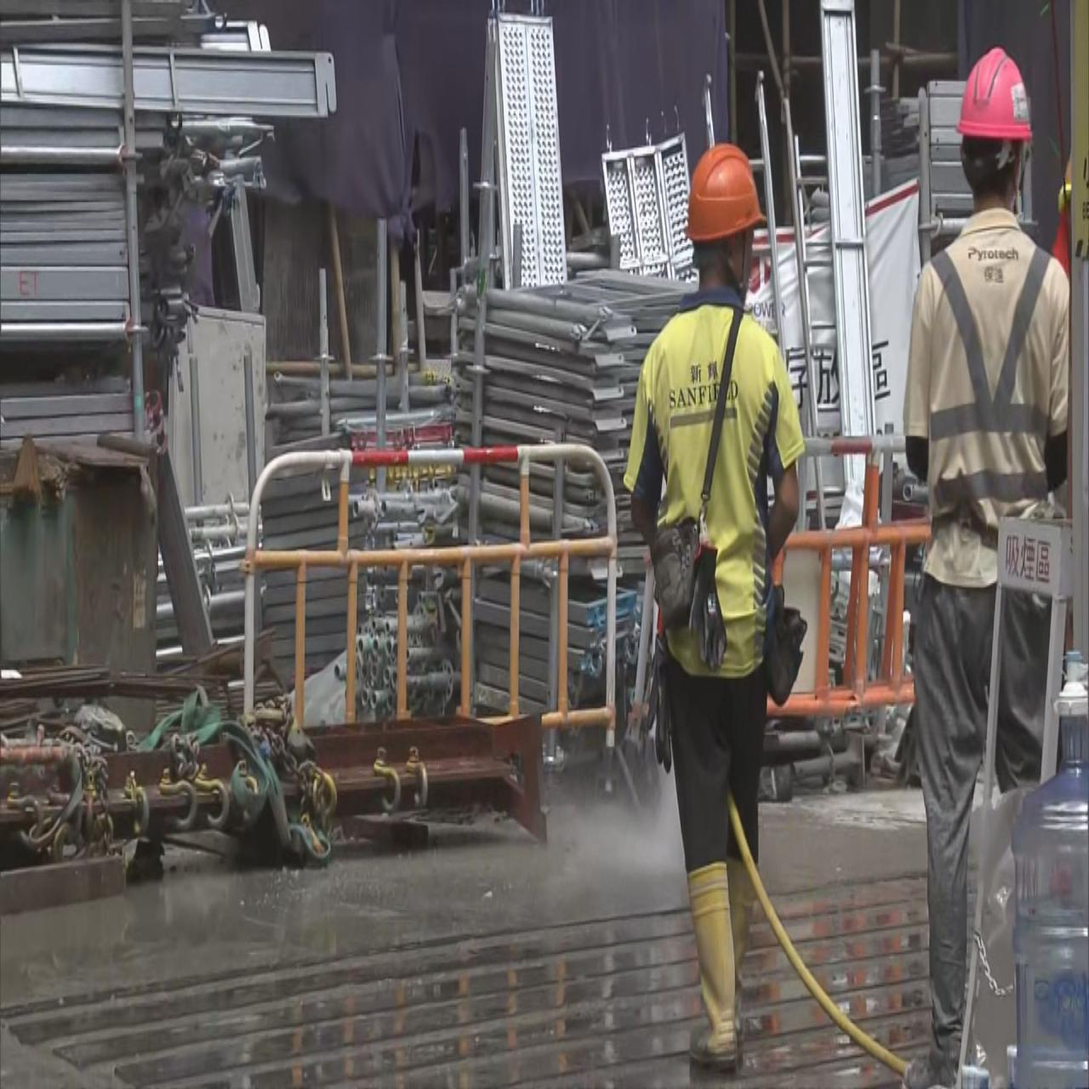NO_Safety_Vest: (903, 205, 1072, 611), (630, 292, 795, 688)
Person: (863, 26, 1089, 1089), (606, 115, 811, 1089)
